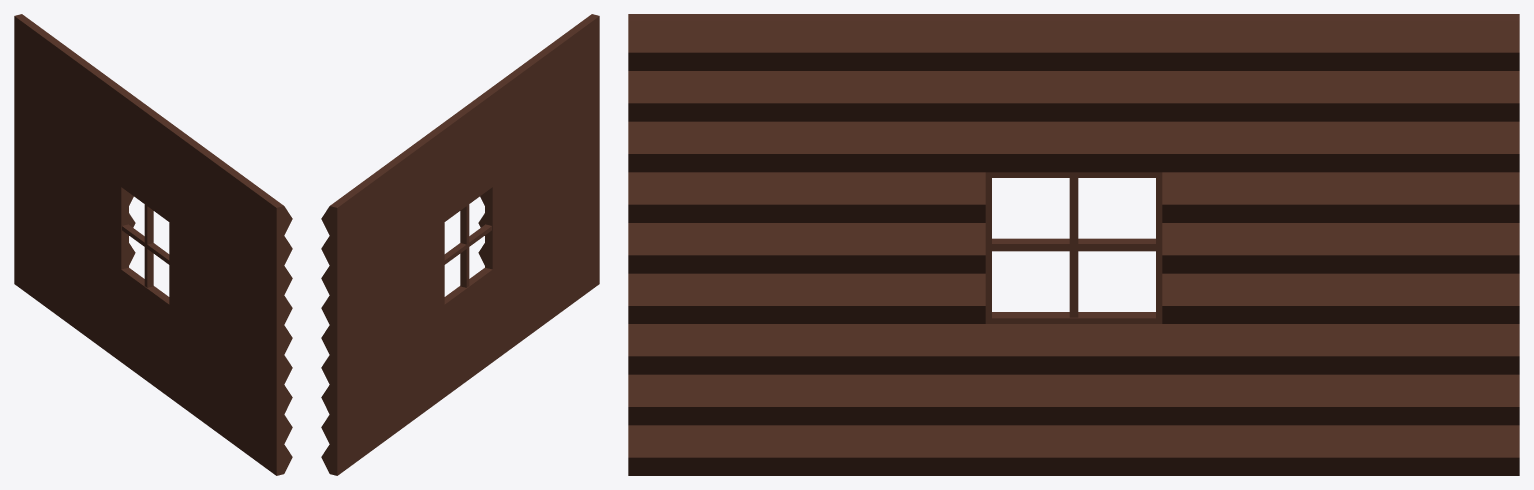
Rendered from Window2_(1).fbx.
3 views of the same model, side by side, from view 1: azimuth 30°, elevation 25°; view 2: azimuth 150°, elevation 25°; view 3: azimuth 270°, elevation 25° (orthographic). The views are drawn at different scales.
Parts seen in each view (by area): view 1: Wall_Narrow_01_c; view 2: Wall_Narrow_01_c; view 3: Wall_Narrow_01_c.
Part boxes in pixels (left/top/right/bottom): Wall_Narrow_01_c: left=14, top=14, right=292, bottom=475; Wall_Narrow_01_c: left=321, top=14, right=599, bottom=475; Wall_Narrow_01_c: left=628, top=14, right=1519, bottom=475.
Size of the model in its own units: 14.59 by 230 by 408.
Materials: 1 (1 with a texture image).
